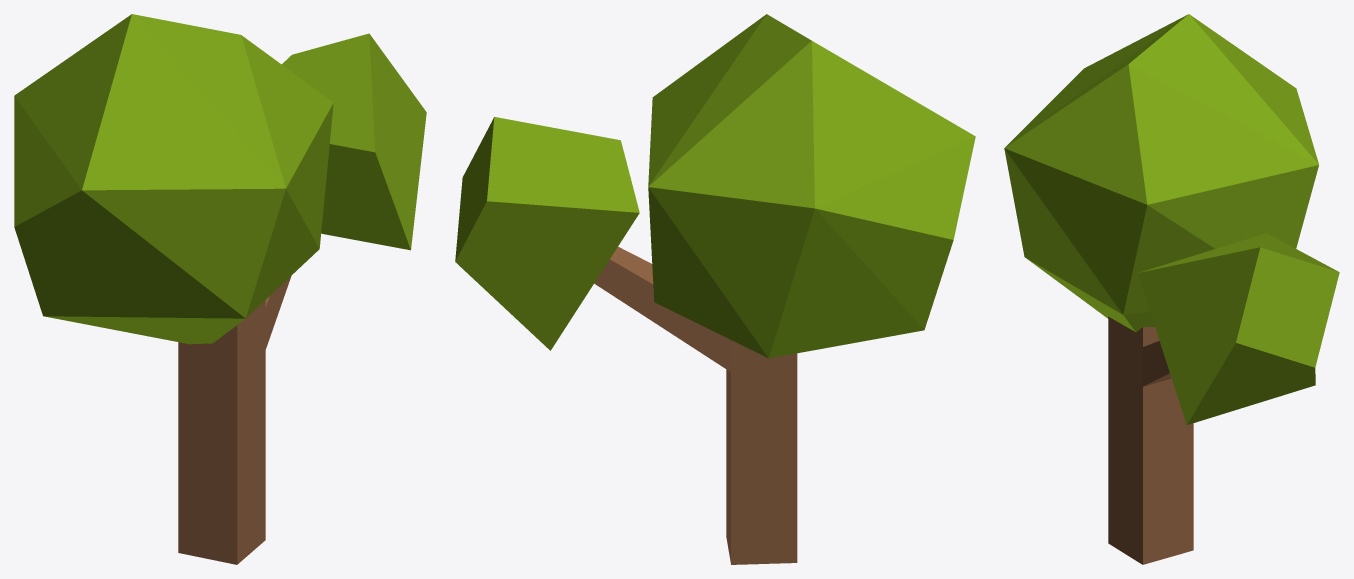
Rendered from tree6.gltf.
3 views of the same model, side by side, from view 1: azimuth 30°, elevation 25°; view 2: azimuth 150°, elevation 25°; view 3: azimuth 270°, elevation 25° (orthographic). The views are drawn at different scales.
Visible parts, largest first — view 1: Icosphere_251, Cube.018_246, Cube.019_247; view 2: Icosphere_251, Cube.019_247, Cube.018_246; view 3: Icosphere_251, Cube.019_247, Cube.018_246.
Part boxes in pixels (x1,y1,x2,y2): Icosphere_251: (14,14,333,344); Cube.018_246: (178,276,291,564); Cube.019_247: (282,33,426,250); Icosphere_251: (648,14,975,358); Cube.019_247: (455,117,639,350); Cube.018_246: (594,246,797,564); Icosphere_251: (1004,14,1318,331); Cube.019_247: (1137,233,1339,424); Cube.018_246: (1108,316,1193,564).
Bounding box in the file's own units: 1.92 × 2.19 × 1.33.
